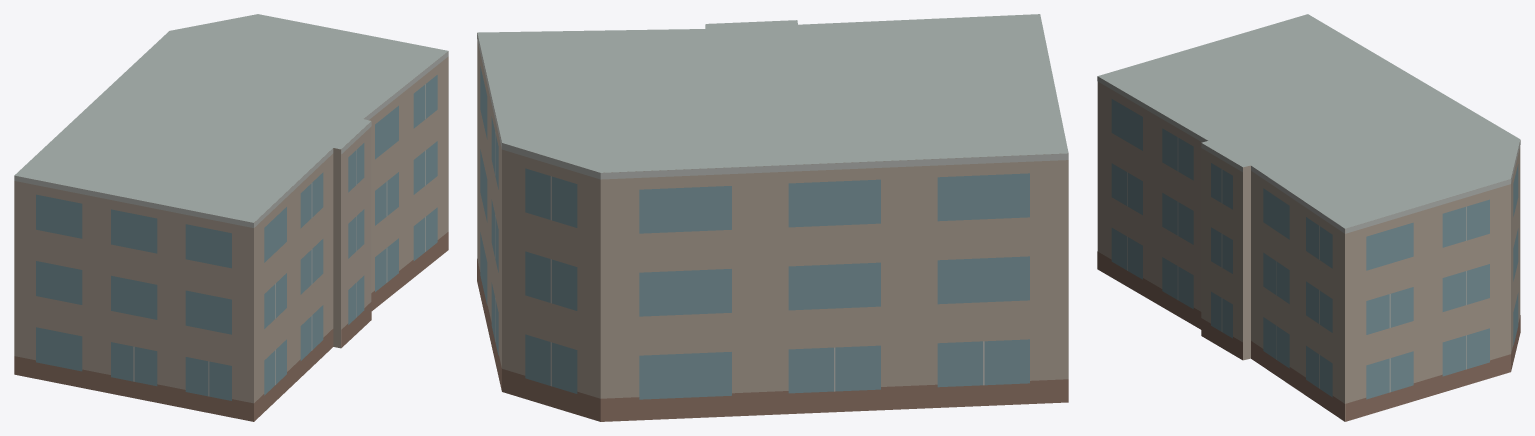
File: survey-upis-32526308.glb
The picture shows the model from 3 angles, left to right: view 1: azimuth 30°, elevation 25°; view 2: azimuth 150°, elevation 25°; view 3: azimuth 270°, elevation 25°; orthographic projection. The views are drawn at different scales.
Visible parts, largest first — view 1: survey-upis-32526308.tmp; view 2: survey-upis-32526308.tmp; view 3: survey-upis-32526308.tmp.
Boxes of the visible parts, x1,y1,x2,y2 form: survey-upis-32526308.tmp: (14, 14, 448, 421); survey-upis-32526308.tmp: (477, 14, 1068, 421); survey-upis-32526308.tmp: (1097, 14, 1520, 421).
Bounding box in the file's own units: 21.83 × 9.15 × 18.17.
